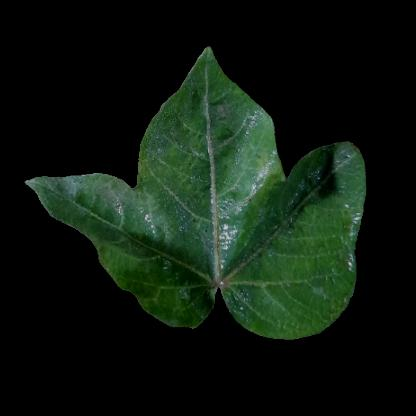healthy: (216, 173, 340, 298), (141, 177, 207, 305), (70, 178, 143, 264), (159, 117, 273, 169), (176, 69, 258, 114), (252, 297, 325, 329)
